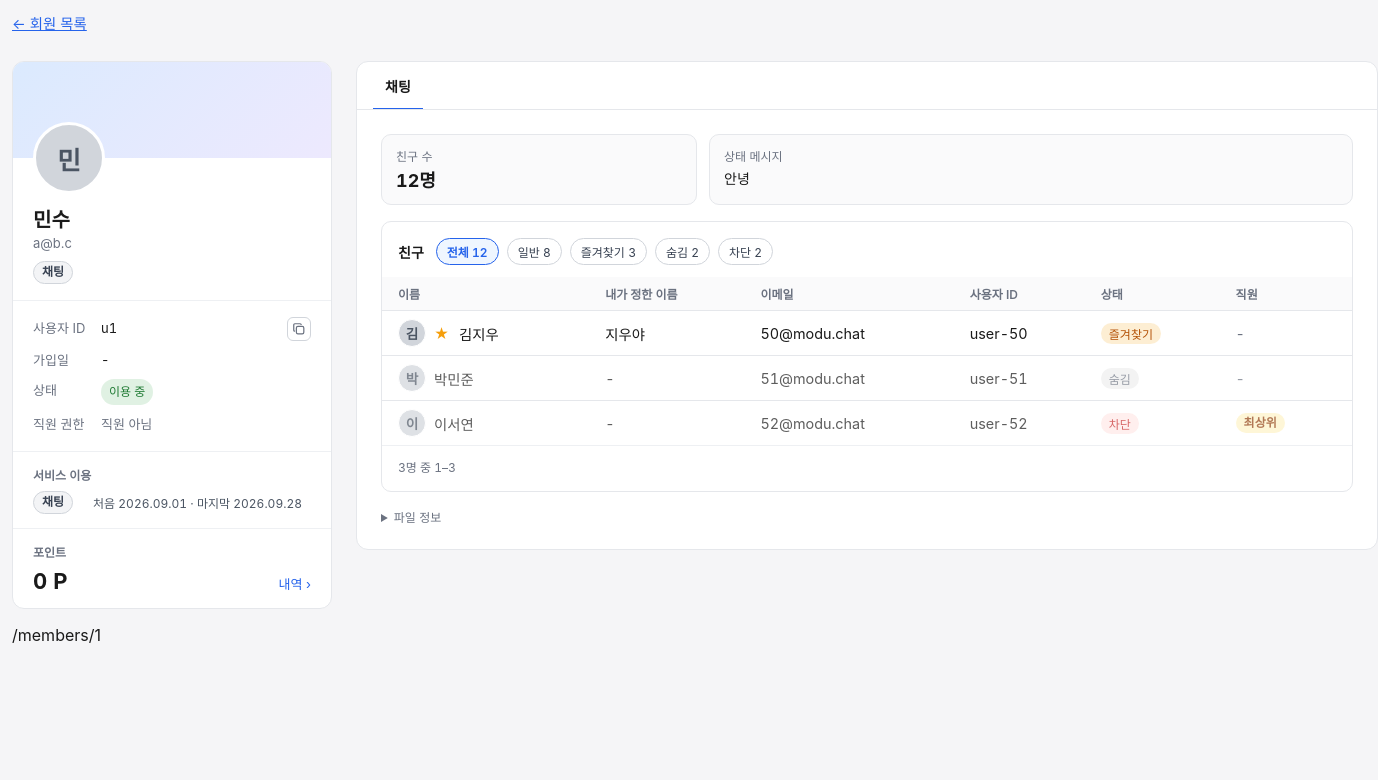
MemberDetailPage › 채팅 tab friends › shows the star, status pills, muted hidden/blocked rows and opens a friend
Expected: the column headings read "이름", "내가 정한 이름", "이메일", "사용자 ID", "상태", "직원", in this order, [382,277,595,310]; [595,277,750,310]; [750,277,960,310]; [960,277,1091,310]; [1091,277,1226,310]; [1226,277,1352,310]
Expected: the picture named "즐겨찾기" reads "★", [434,324,449,342]
What coordinates should you click on to do the following:
click the button "박 박민준 - 51@modu.chat user-51 숨김 -"
I would click on:
 (867, 378)
Its box is [382,356,1352,400].
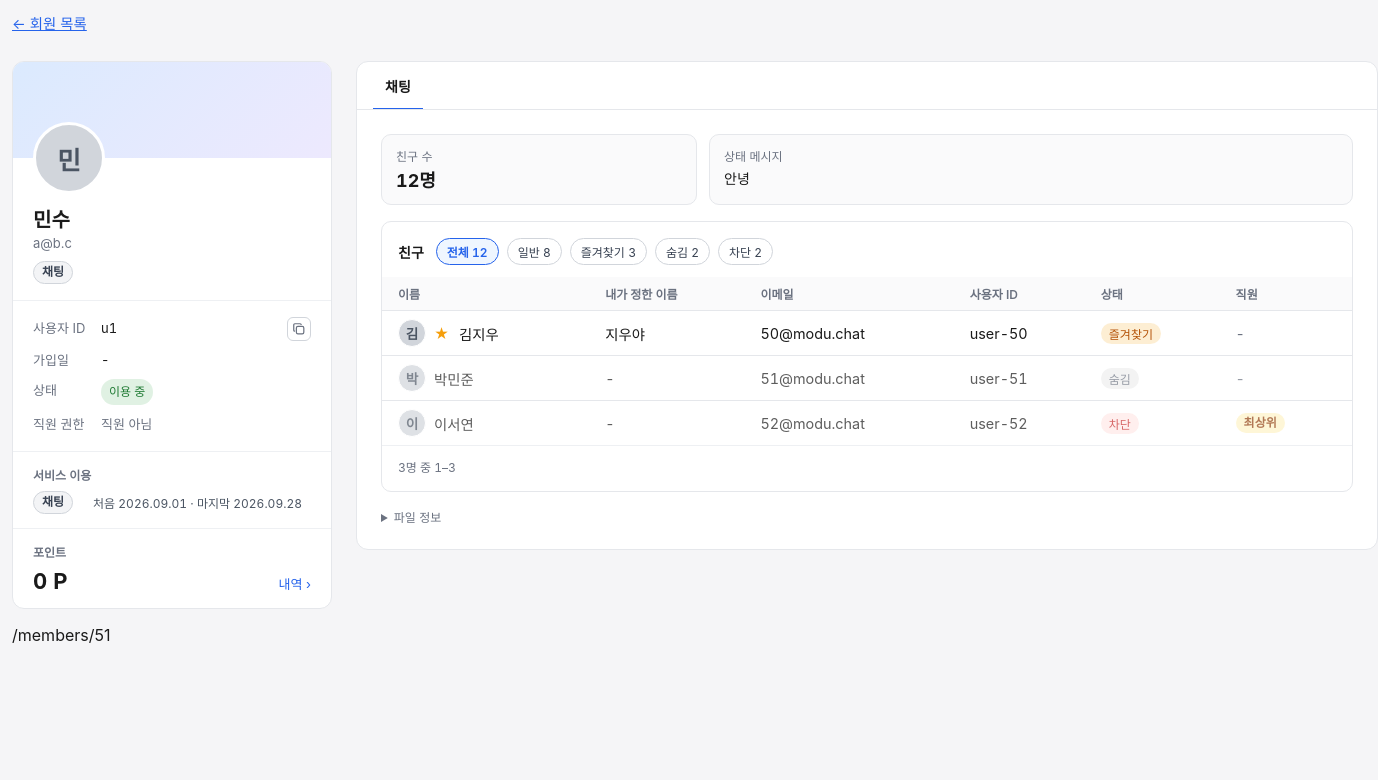
Expected: the text with test id "location" reads "/members/51", [12,625,110,645]
